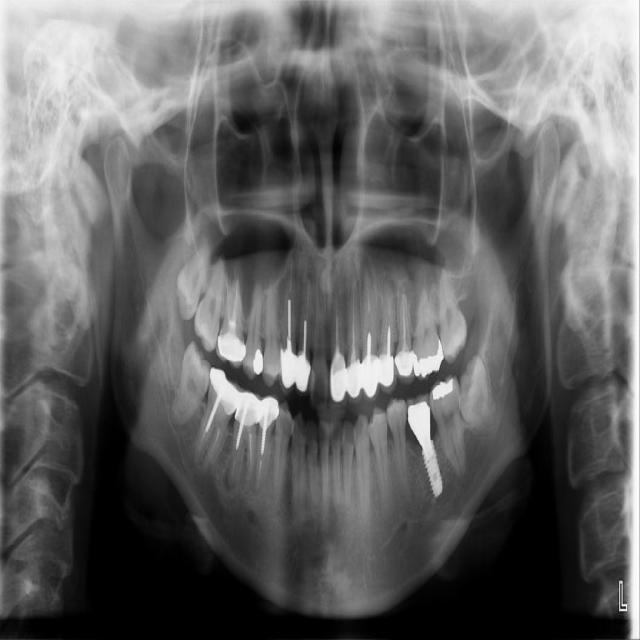3M ESPE Implant: (166, 230, 219, 323)
52: (324, 349, 401, 410), (232, 388, 281, 439), (424, 372, 468, 426), (207, 368, 241, 425), (408, 336, 448, 383), (212, 327, 251, 371), (278, 348, 311, 398), (309, 357, 329, 411), (392, 346, 417, 387), (243, 341, 264, 381), (468, 384, 486, 421), (460, 380, 471, 417), (189, 304, 194, 312)
73: (219, 260, 245, 344), (246, 428, 272, 495), (379, 279, 401, 356), (282, 254, 298, 357), (297, 273, 313, 362), (363, 268, 378, 359), (226, 426, 246, 490), (331, 286, 345, 365), (397, 294, 415, 353), (348, 274, 360, 359), (244, 432, 257, 494), (626, 618, 632, 626)
BioHorizons Implant: (433, 249, 470, 366)
Biomet 3i Implant: (445, 353, 505, 442)
Blue Sky Bio Implant: (427, 374, 467, 480)
Caries: (190, 251, 229, 353)
Implant: (191, 367, 245, 474)
Keystone Dental Implant: (166, 339, 219, 433)
